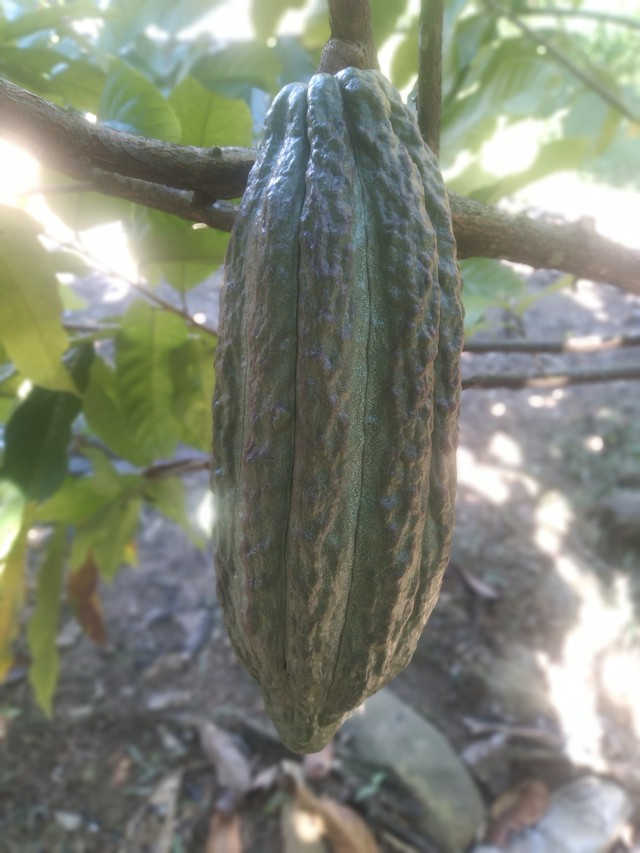Health: (195, 57, 478, 762)
